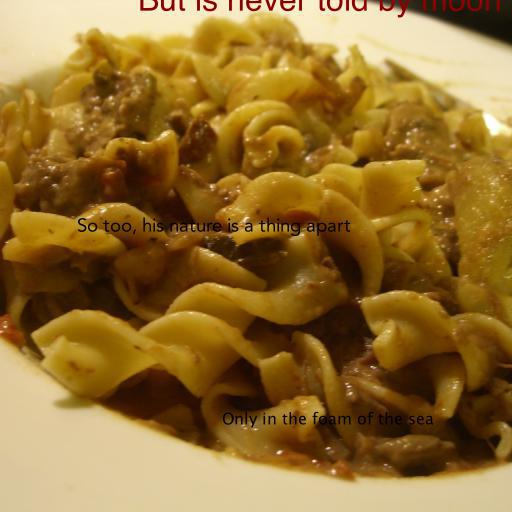Apple Chancery: (138, 0, 502, 18)
Avenir: (77, 217, 351, 237)
Lucida Grande: (222, 411, 434, 428)
